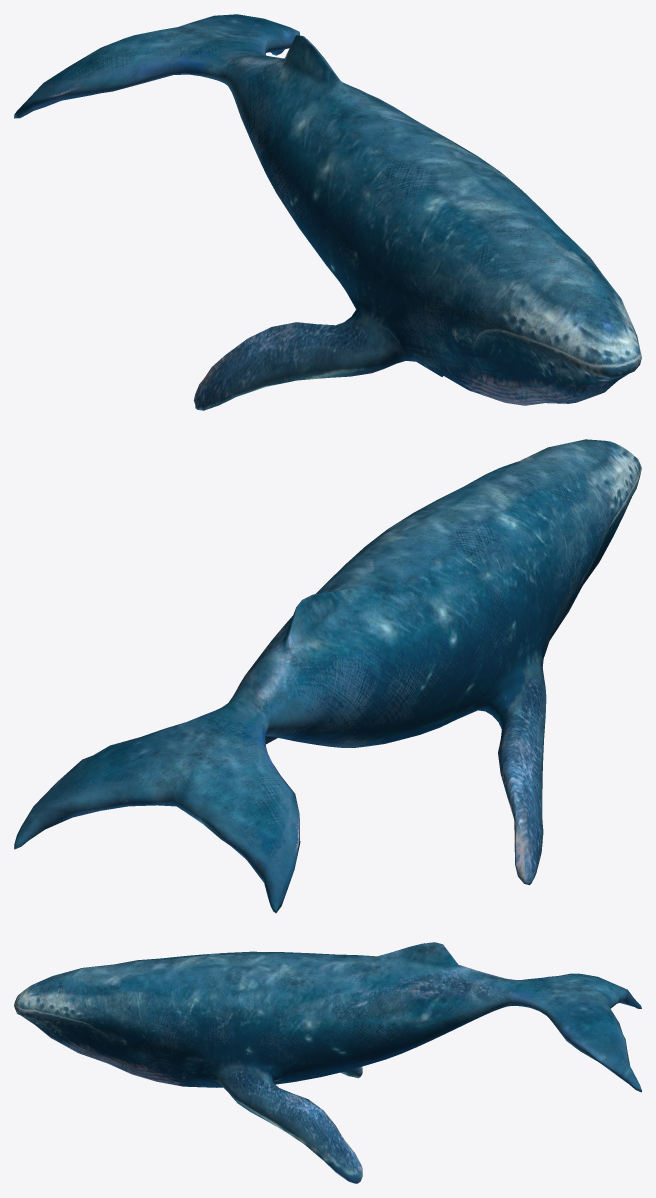
The model's file is whale.glb.
3 renders of one model, top to bottom at view 1: azimuth 30°, elevation 25°; view 2: azimuth 150°, elevation 25°; view 3: azimuth 270°, elevation 25°, orthographic. The views are drawn at different scales.
Visible parts, largest first — view 1: whale_rig_body2_Whale_lod0_mesh; view 2: whale_rig_body2_Whale_lod0_mesh; view 3: whale_rig_body2_Whale_lod0_mesh.
Part boxes in pixels (x1,y1,x2,y2): whale_rig_body2_Whale_lod0_mesh: (14, 14, 641, 410); whale_rig_body2_Whale_lod0_mesh: (14, 439, 641, 913); whale_rig_body2_Whale_lod0_mesh: (14, 942, 641, 1183).
Size of the model in its own units: 121 by 99.01 by 300.
1 material, 1 textured.
